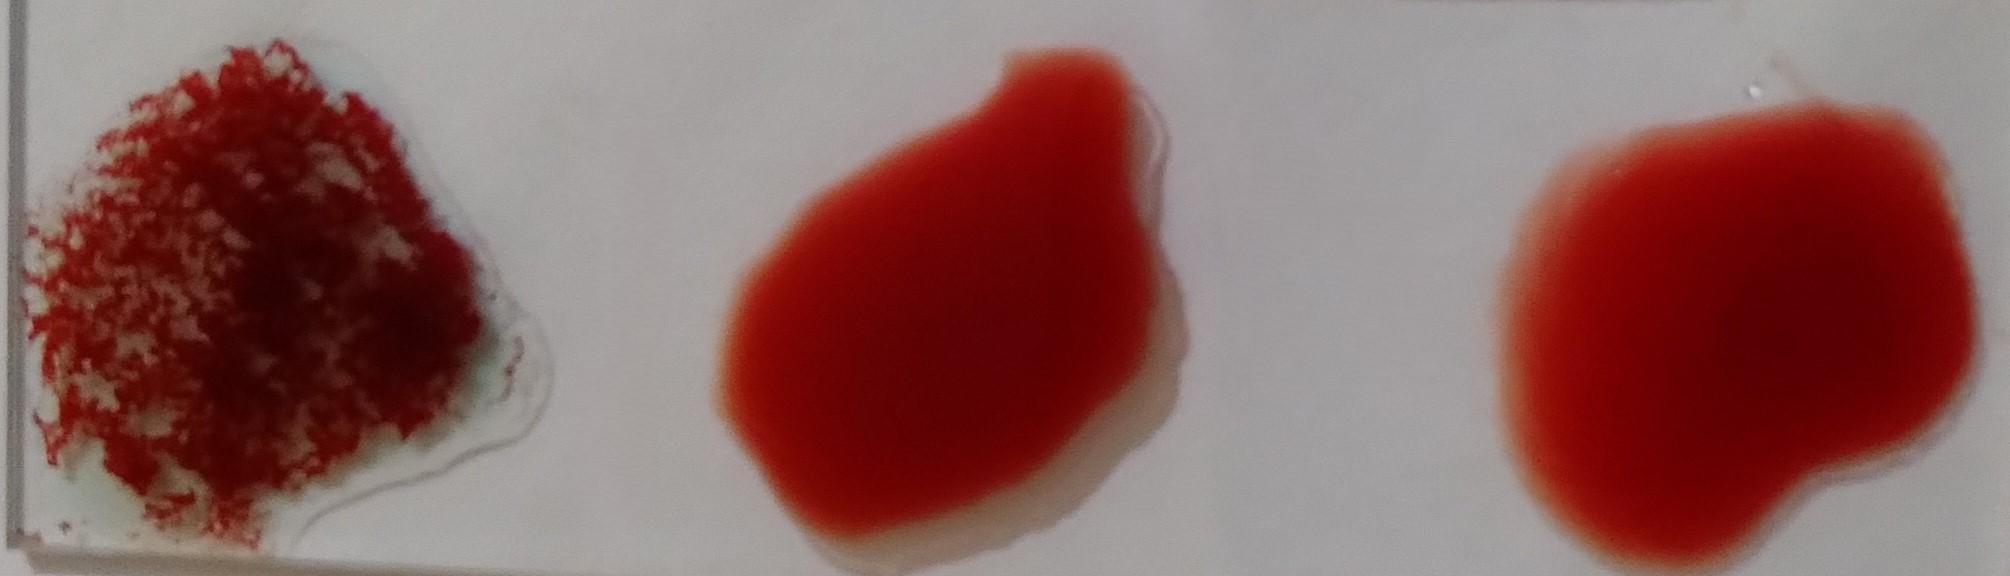A: (42, 56, 520, 576)
